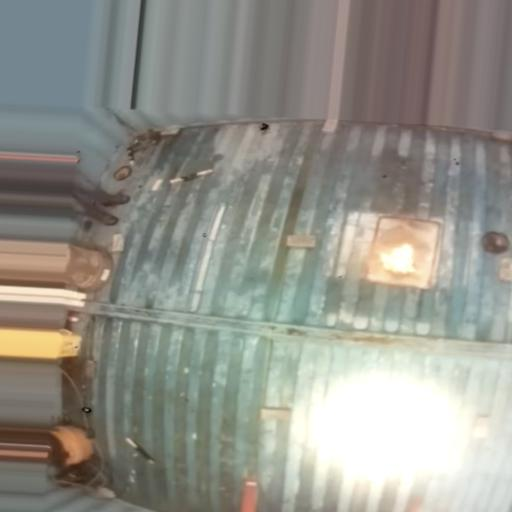Fire: (379, 244, 418, 274)
